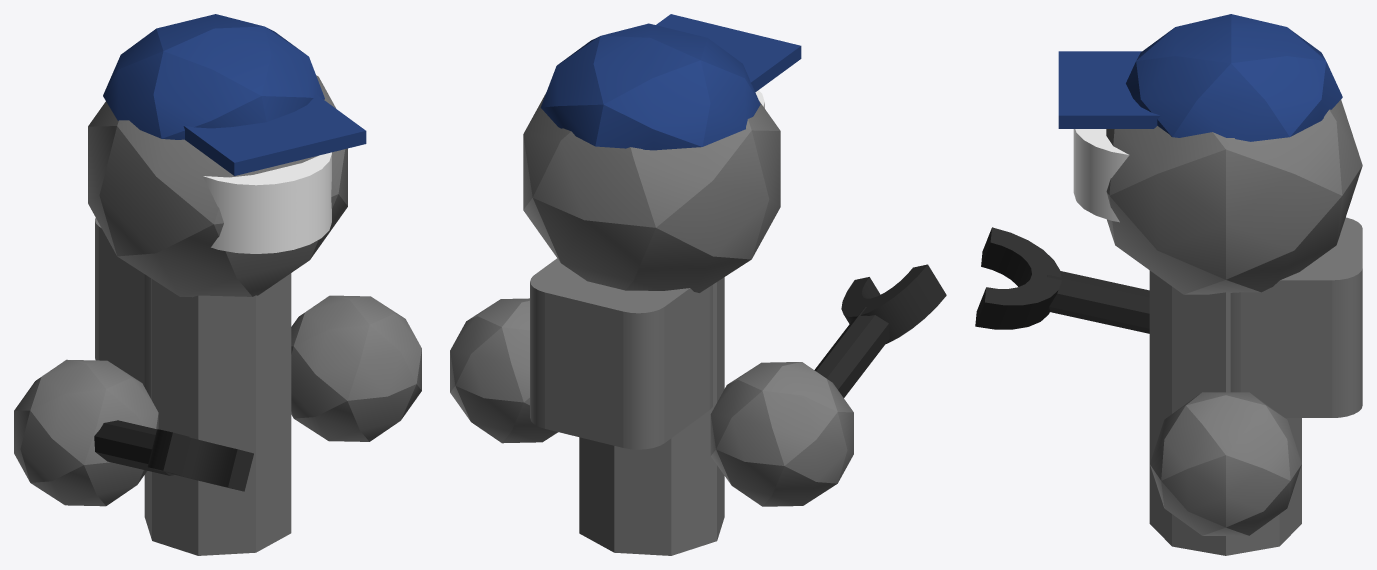
Rendered from Player_Engineer.fbx.
3 views of the same model, side by side, from view 1: azimuth 30°, elevation 25°; view 2: azimuth 150°, elevation 25°; view 3: azimuth 270°, elevation 25° (orthographic).
Visible parts, largest first — view 1: icosphere (×3), cylinderVertex (×2), icosphere_half, cylinder_half, block, cylinderSquare, cylinderHollow_half; view 2: icosphere (×3), cylinderSquare, icosphere_half, cylinderVertex (×2), cylinderHollow_half, block; view 3: icosphere (×2), icosphere_half, cylinderSquare, cylinderVertex (×2), block, cylinderHollow_half, cylinder_half.
Boxes of the visible parts, x1,y1,x2,y2 form: icosphere (×3): (14,75,421,506); cylinderVertex (×2): (94,273,291,555); icosphere_half: (103,14,324,139); cylinder_half: (203,152,331,253); block: (183,93,366,175); cylinderSquare: (95,218,151,398); cylinderHollow_half: (147,429,253,491); icosphere (×3): (450,92,853,506); cylinderSquare: (530,258,712,449); icosphere_half: (540,23,760,150); cylinderVertex (×2): (579,277,889,555); cylinderHollow_half: (841,264,946,343); block: (656,14,801,91); icosphere (×2): (1106,99,1362,535); icosphere_half: (1126,14,1342,141); cylinderSquare: (1230,217,1362,417); cylinderVertex (×2): (1047,270,1301,555); block: (1058,51,1160,128); cylinderHollow_half: (975,227,1061,329); cylinder_half: (1073,129,1129,222).
Bounding box in the file's own units: 30 × 35.9 × 25.48.
